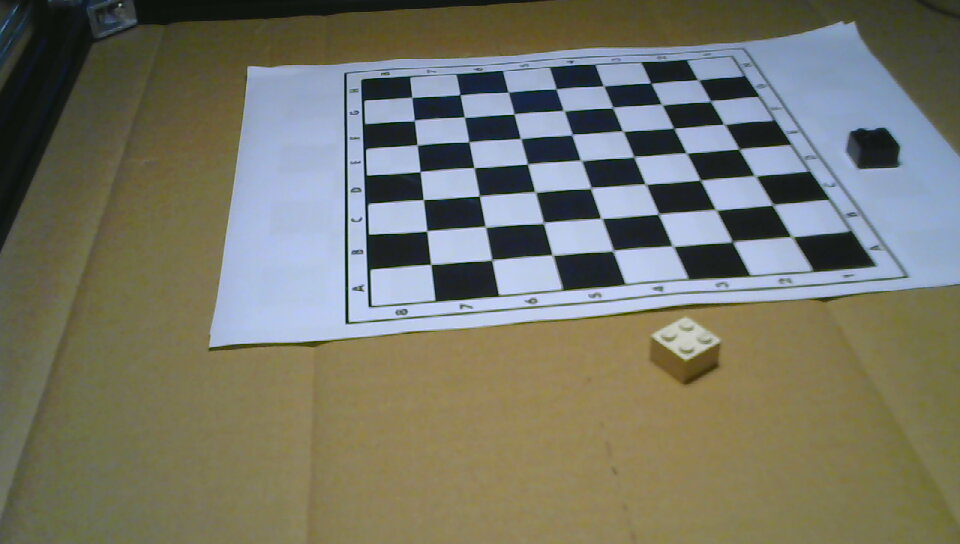bp: (845, 126, 902, 171)
wp: (649, 316, 721, 384)
